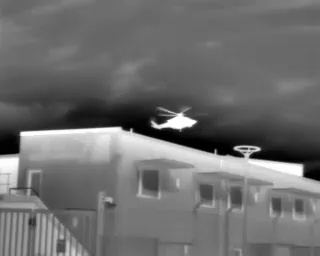HELICOPTER: (146, 101, 211, 137)
